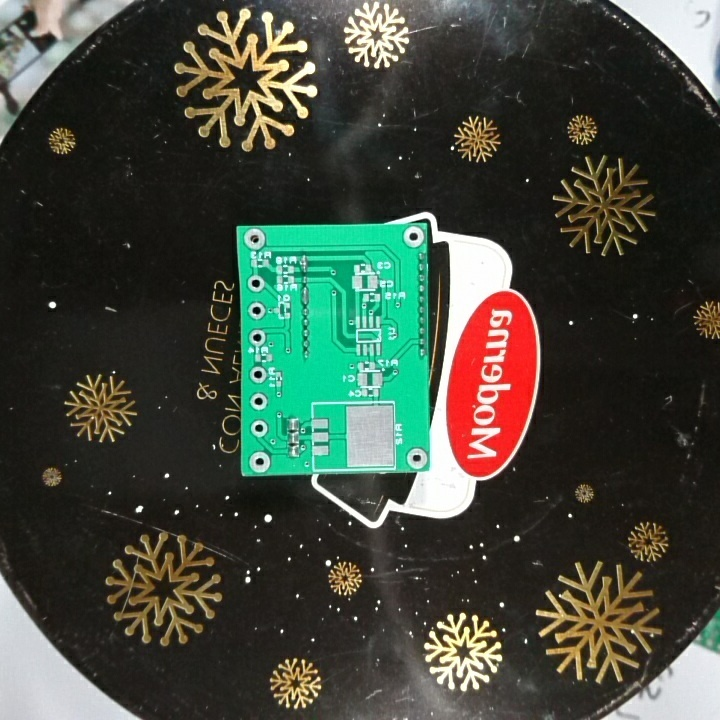F: (242, 226, 269, 252), (247, 449, 273, 474), (401, 222, 425, 249), (404, 446, 430, 469), (248, 418, 271, 440), (248, 391, 271, 413), (247, 364, 269, 386), (246, 300, 268, 321), (245, 274, 267, 294), (247, 327, 268, 346)
P: (297, 253, 311, 274), (299, 283, 311, 306)
